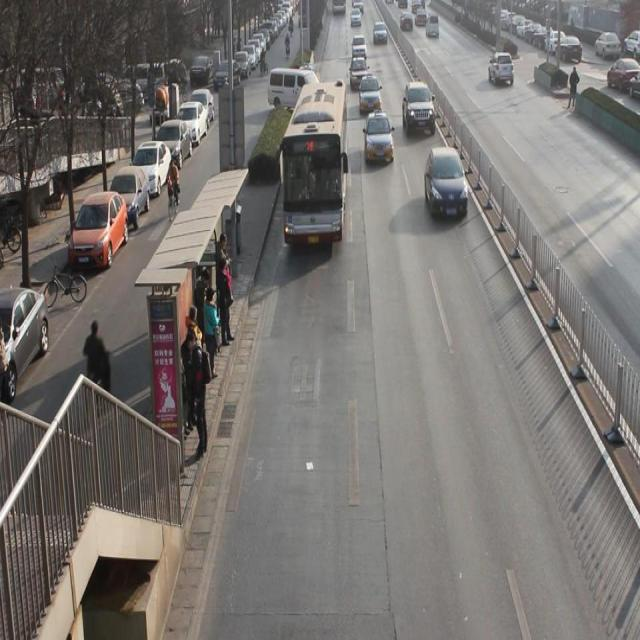car: (426, 147, 467, 219), (405, 83, 436, 137), (489, 51, 518, 86), (359, 79, 382, 115), (350, 58, 368, 90), (300, 63, 319, 92), (352, 35, 367, 60), (374, 22, 389, 46)
truck: (365, 114, 396, 166), (296, 68, 316, 114)
van: (280, 78, 342, 243)
